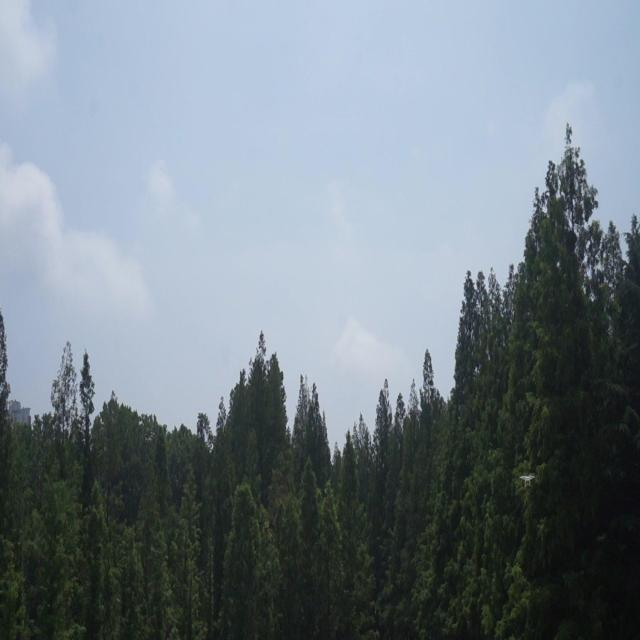drone: (520, 468, 536, 488)
